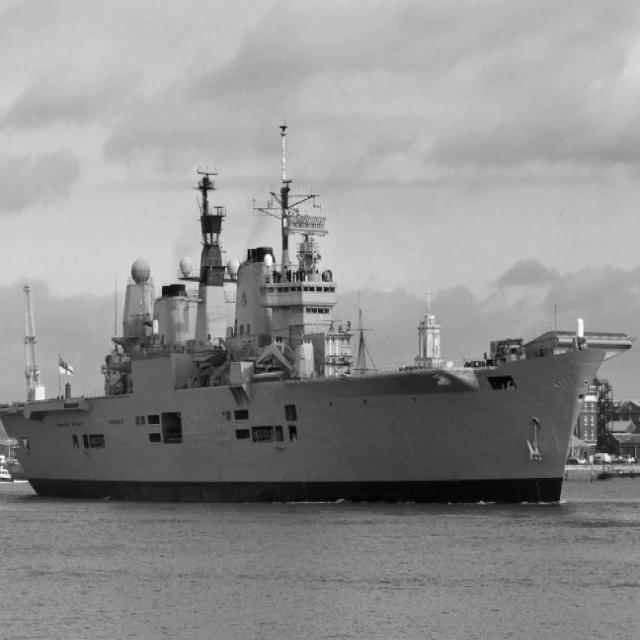Portanaves: (1, 122, 637, 511)
